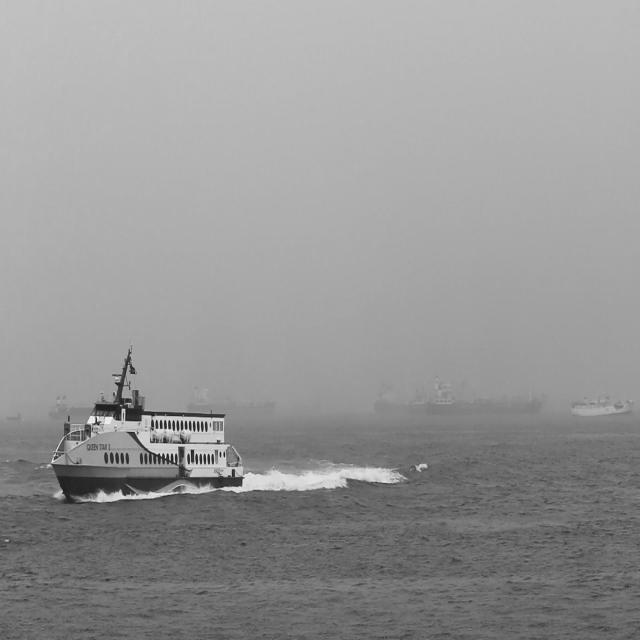ship: (50, 340, 246, 504), (432, 378, 546, 417), (188, 387, 278, 410), (570, 390, 636, 418), (368, 385, 413, 417), (48, 396, 92, 419), (414, 392, 430, 416), (5, 408, 22, 421)
